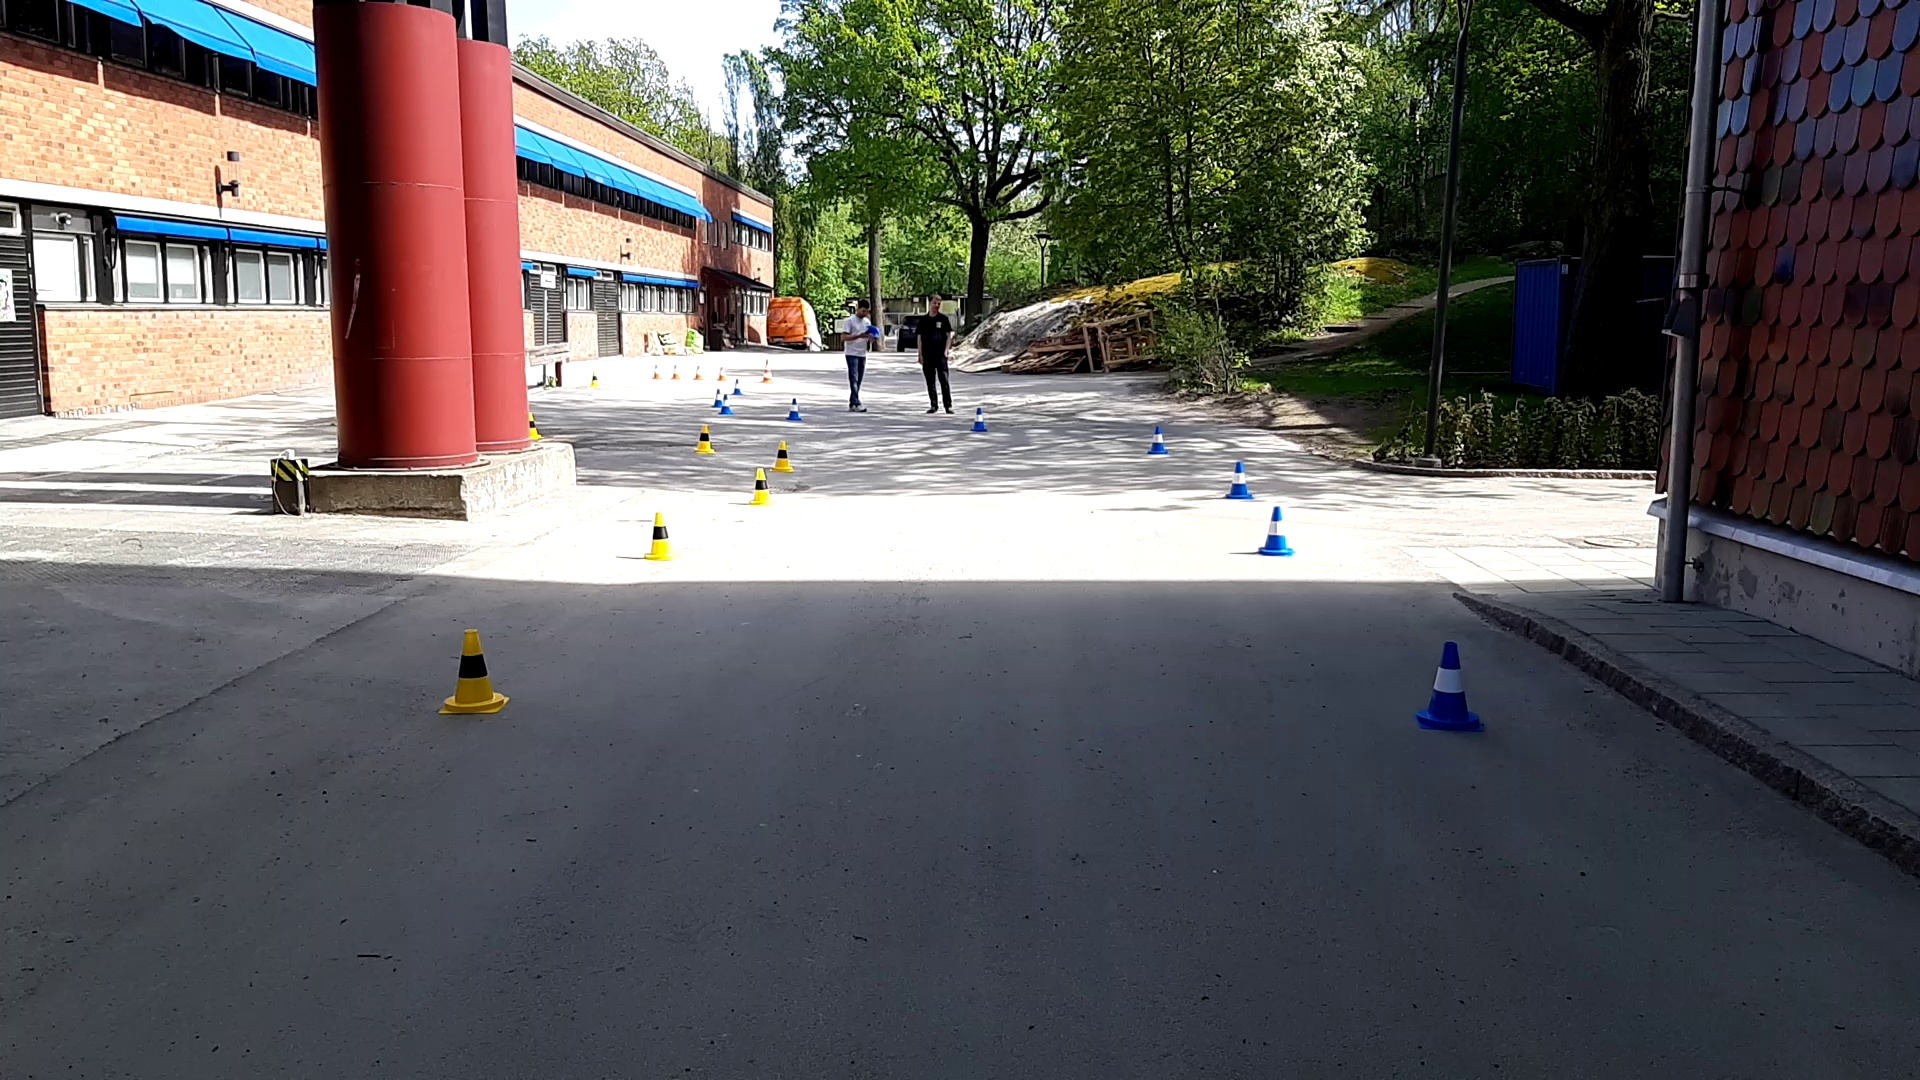Cone: (439, 626, 504, 724), (1416, 641, 1481, 736), (640, 512, 688, 564), (1255, 502, 1298, 563), (1222, 454, 1255, 505), (742, 465, 778, 509)
